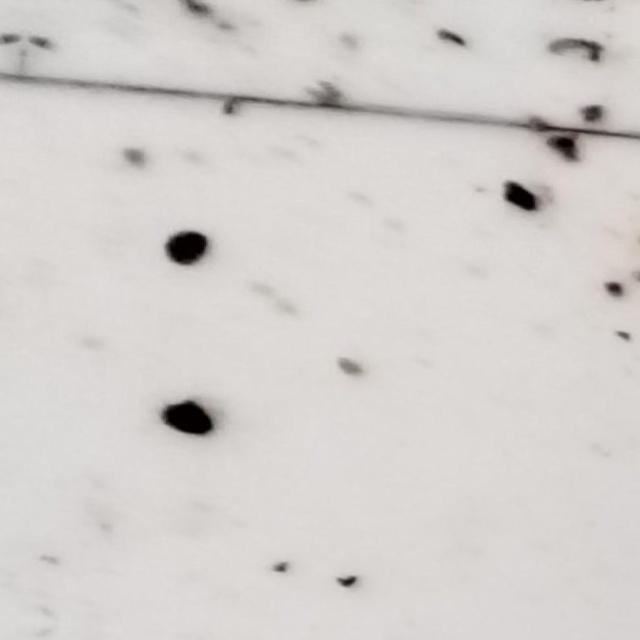varroa: (160, 394, 218, 438), (158, 225, 210, 266)
